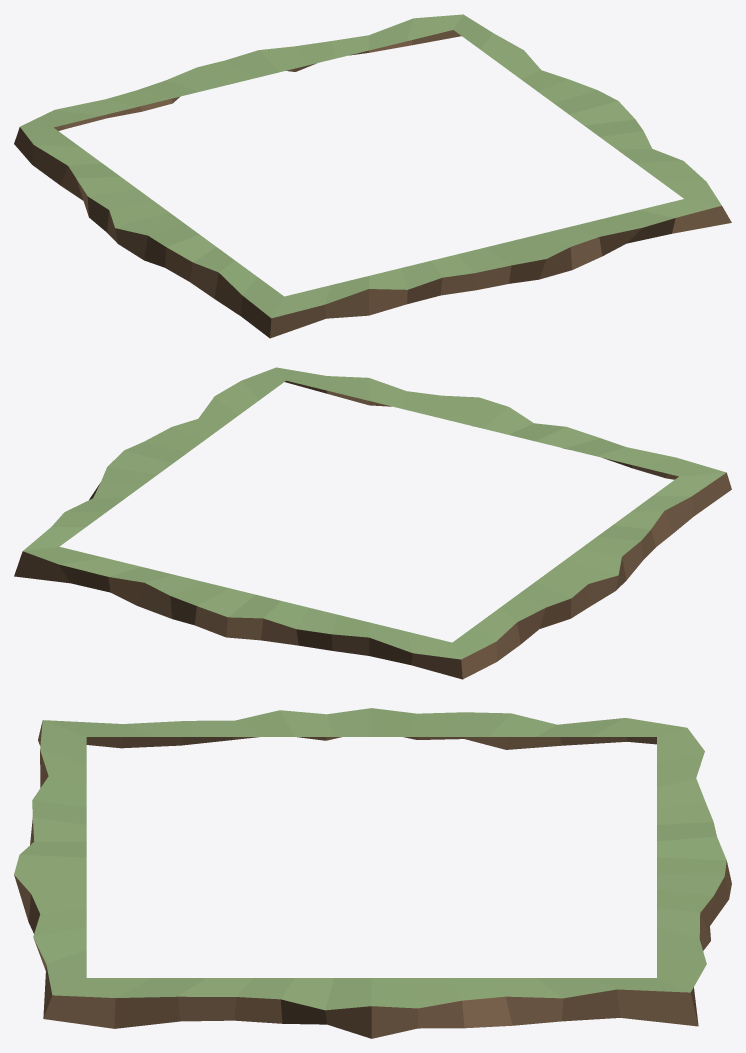
Rendered from entorno_16.glb.
The picture shows the model from 3 angles, top to bottom: view 1: azimuth 30°, elevation 25°; view 2: azimuth 150°, elevation 25°; view 3: azimuth 270°, elevation 25°; orthographic projection. The views are drawn at different scales.
Parts seen in each view (by area): view 1: bosque_entorno_16; view 2: bosque_entorno_16; view 3: bosque_entorno_16.
Part boxes in pixels (x1,y1,x2,y2): bosque_entorno_16: (14, 14, 731, 338); bosque_entorno_16: (14, 367, 731, 679); bosque_entorno_16: (14, 708, 731, 1038).
Size of the model in its own units: 20.59 by 1.07 by 20.39.
